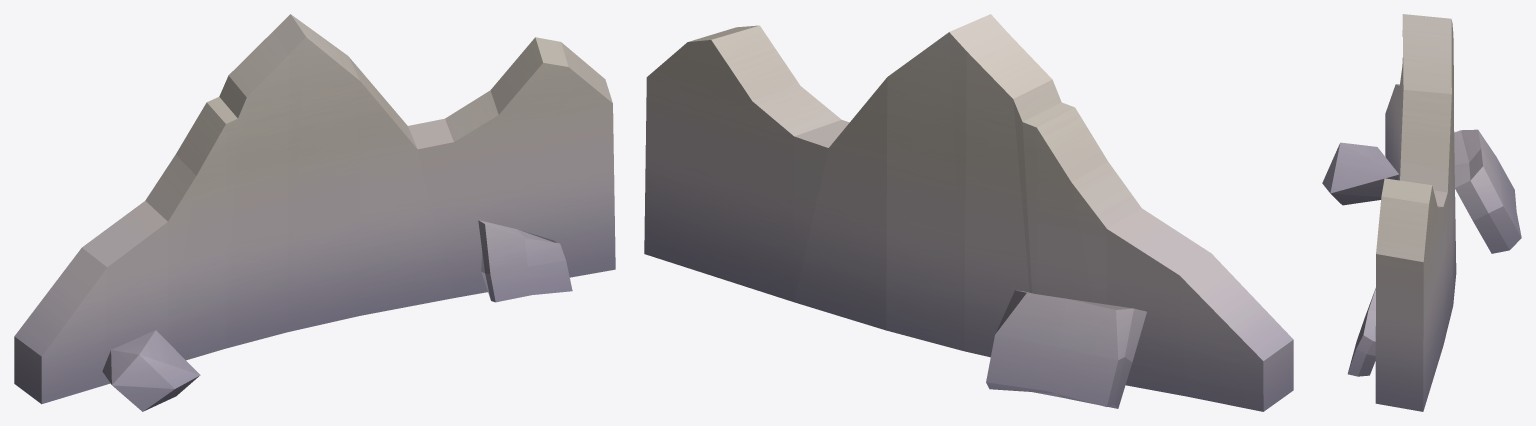
Rendered from Broken_Wall_2.fbx.
3 views of the same model, side by side, from view 1: azimuth 30°, elevation 25°; view 2: azimuth 150°, elevation 25°; view 3: azimuth 270°, elevation 25° (orthographic). The views are drawn at different scales.
Parts seen in each view (by area): view 1: Broken Wall 2; view 2: Broken Wall 2; view 3: Broken Wall 2.
Part boxes in pixels (<box>): Broken Wall 2: <box>14,14,615,411</box>; Broken Wall 2: <box>644,14,1293,411</box>; Broken Wall 2: <box>1322,14,1521,411</box>.
Bounding box in the file's own units: 792 × 384 × 261.
